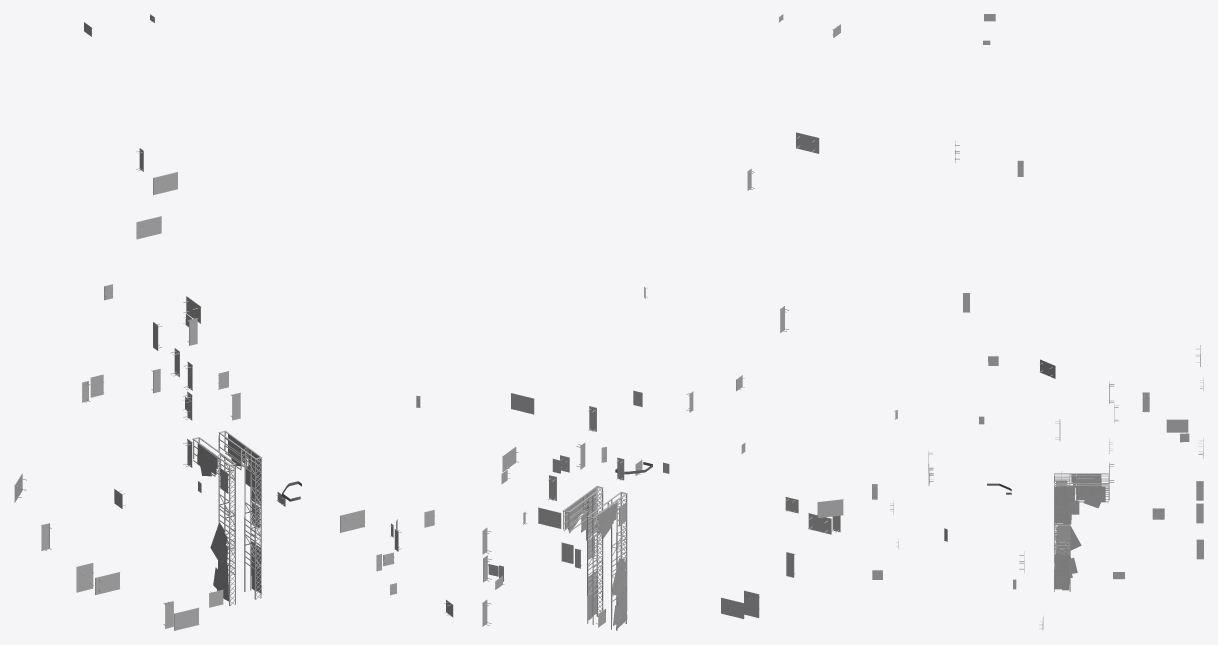
The model's file is Signboard_SetB.fbx.
The picture shows the model from 3 angles, left to right: view 1: azimuth 30°, elevation 25°; view 2: azimuth 150°, elevation 25°; view 3: azimuth 270°, elevation 25°; orthographic projection. The views are drawn at different scales.
Parts seen in each view (by area): view 1: SM_ENV_AMVLLG02_Signboard_SetB.mo; view 2: SM_ENV_AMVLLG02_Signboard_SetB.mo; view 3: SM_ENV_AMVLLG02_Signboard_SetB.mo.
Boxes of the visible parts, left/top/right/bottom form: SM_ENV_AMVLLG02_Signboard_SetB.mo: left=14, top=14, right=453, bottom=630; SM_ENV_AMVLLG02_Signboard_SetB.mo: left=482, top=14, right=843, bottom=630; SM_ENV_AMVLLG02_Signboard_SetB.mo: left=872, top=14, right=1203, bottom=630.
Bounding box in the file's own units: 9311 × 15359 × 9268.
